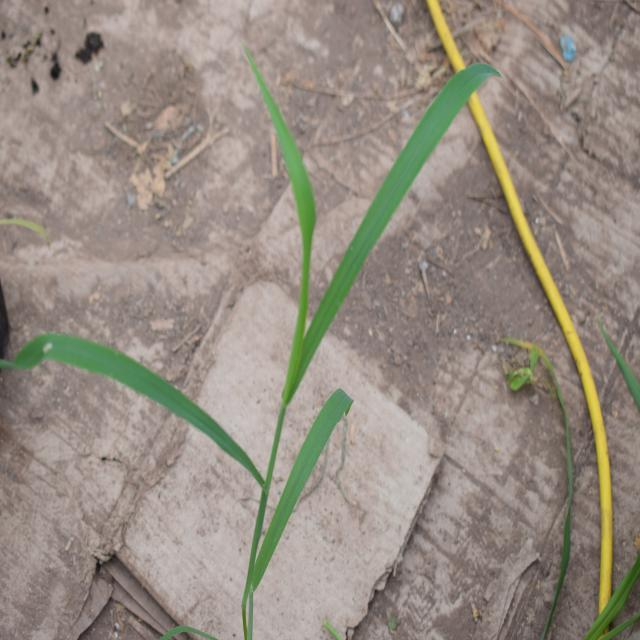crabgrass: (57, 27, 470, 497)
